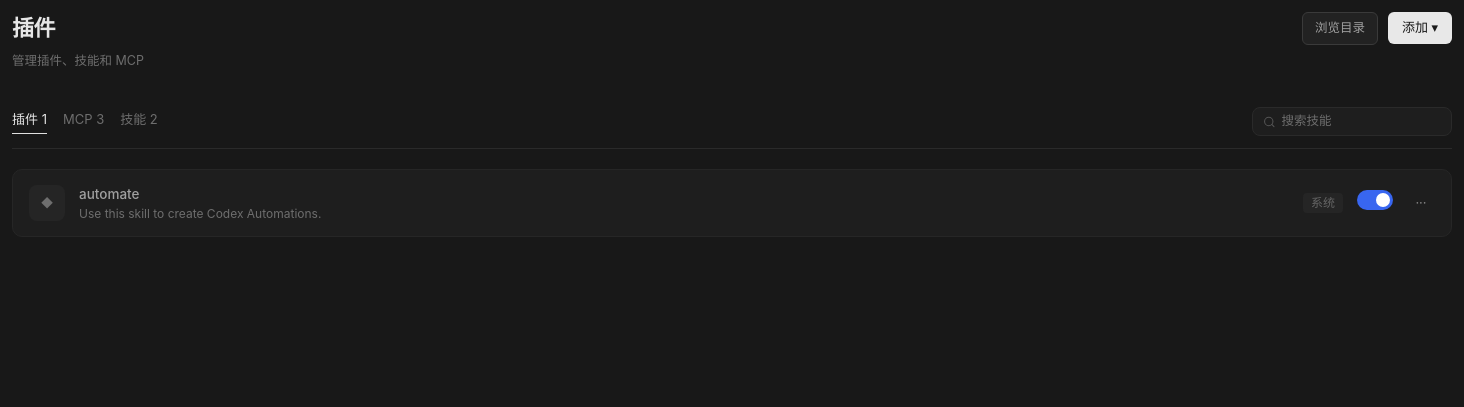
SettingsPluginsPage › 点击 MCP tab 显示带 tools 的插件
expect the text "automate" is shown: met, box [79,186,140,202]
Click the button "MCP 3": (84,122) [63,110,104,134]
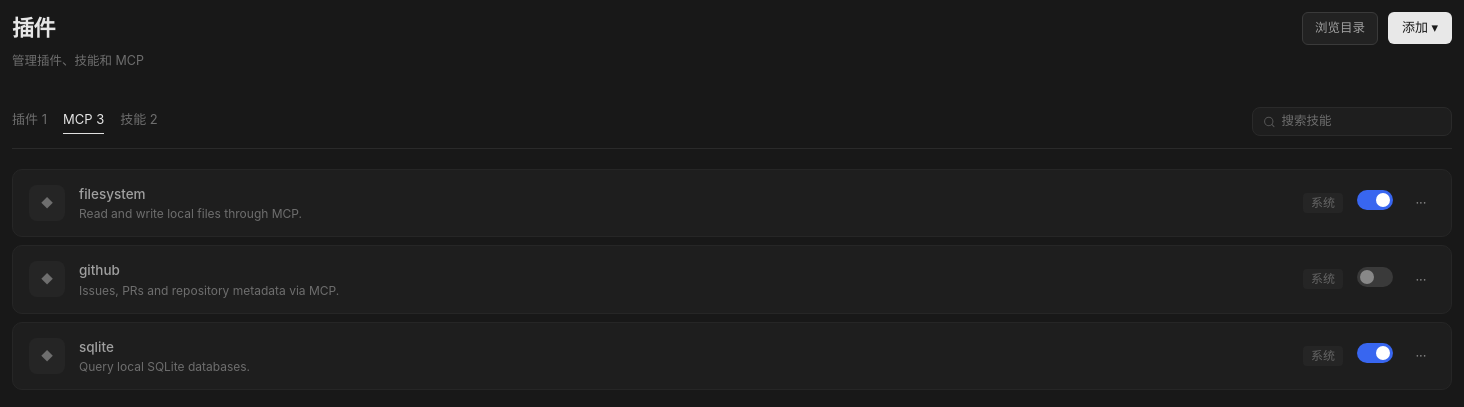
expect the text "filesystem" is shown: met, box [79,186,146,202]
expect the text "sqlite" is shown: met, box [79,339,114,355]
expect the text "github" is shown: met, box [79,262,120,278]
